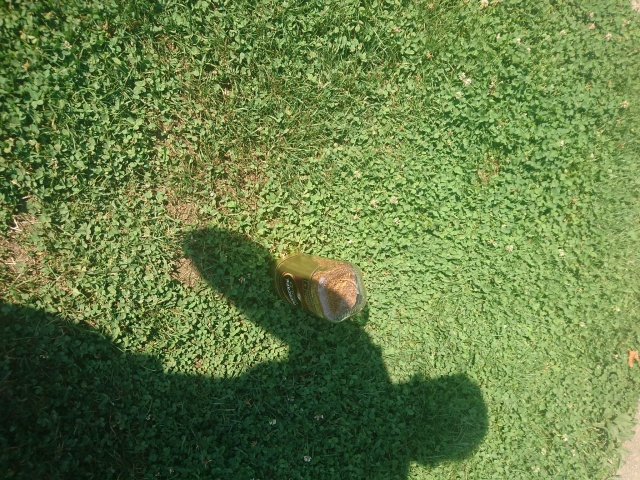Nescafe Gold 225g: (266, 249, 371, 326)
